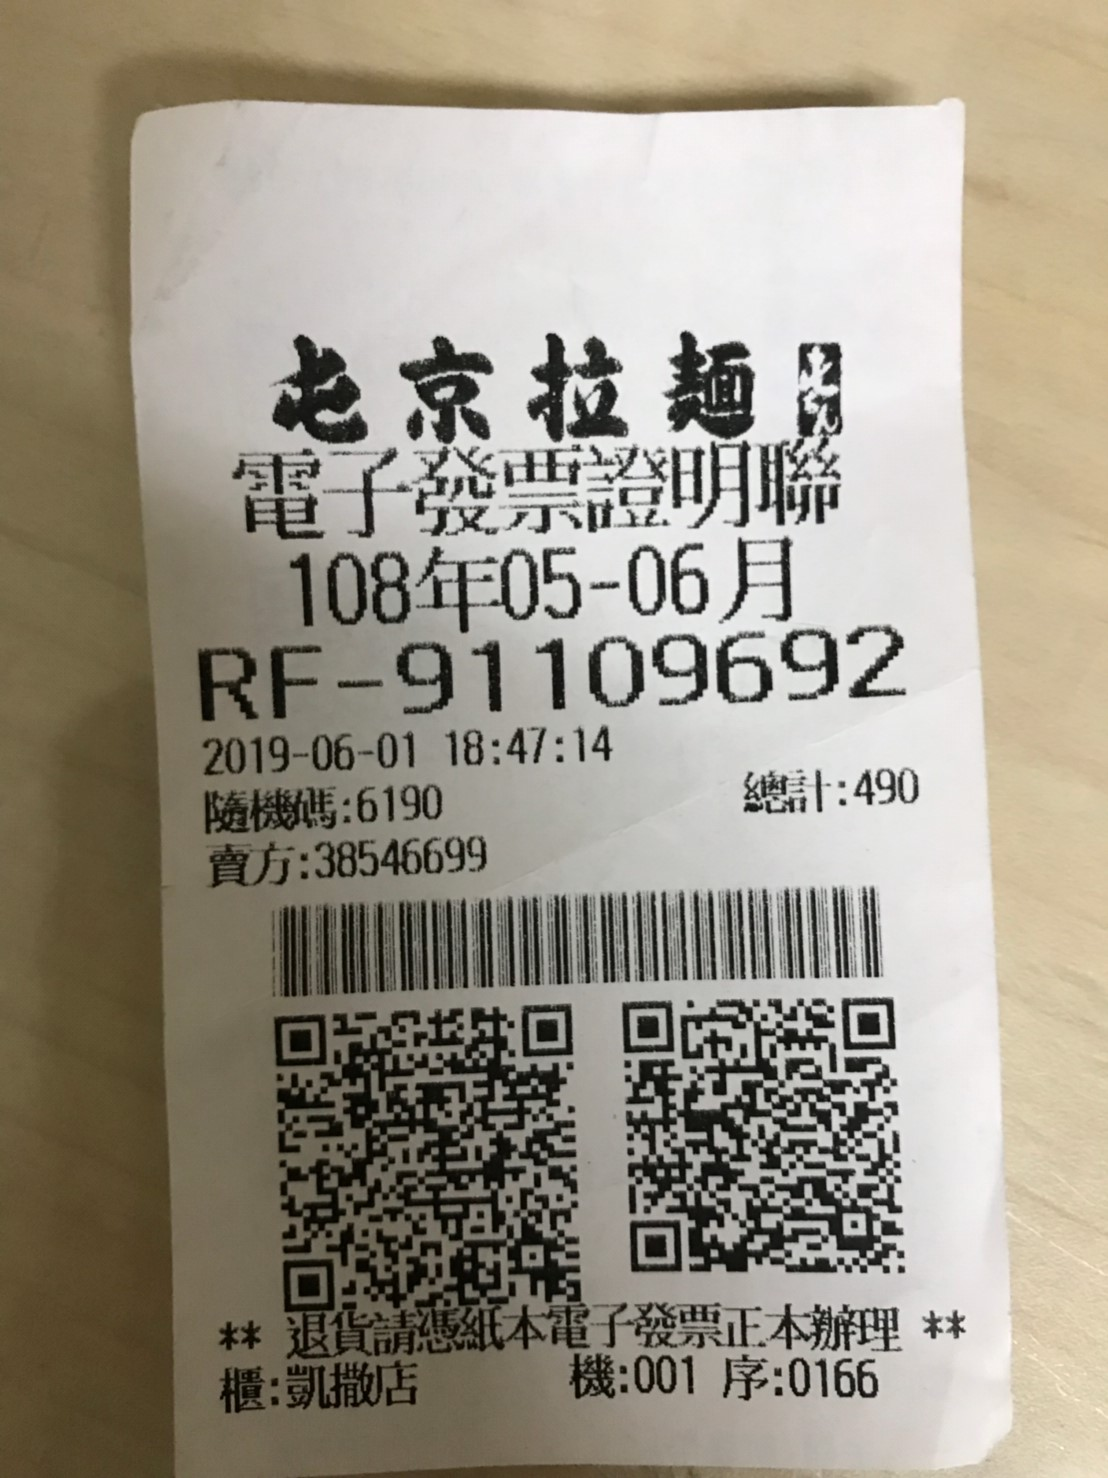Date_New: (283, 533, 800, 626)
Number_New: (388, 620, 911, 718)
